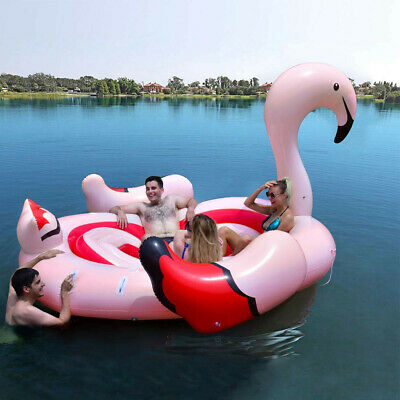Flamingo: (13, 58, 360, 335)
